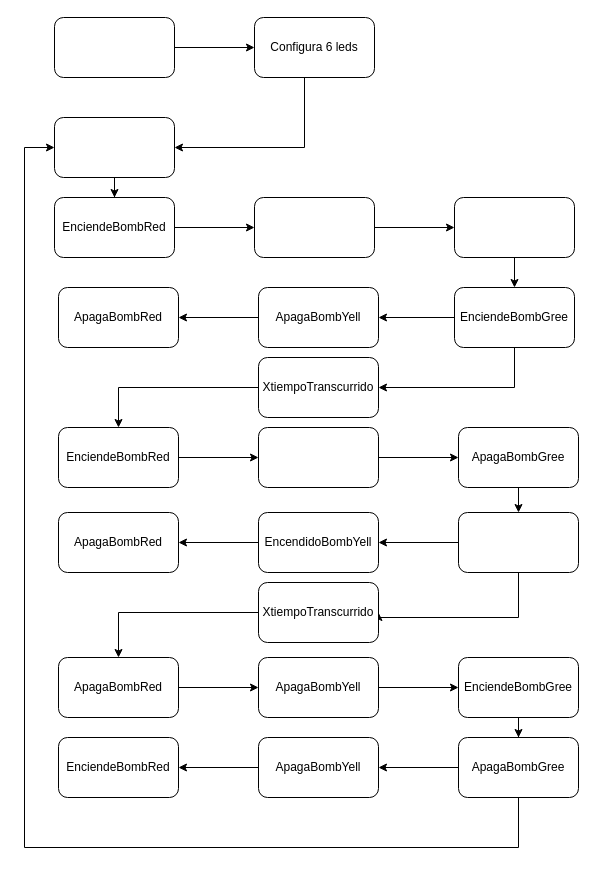
This 596x873 diagram has some shape labels left out. The shapes that lost their labels are listed below. From the top down, each one's box as (x1, y1, x2, y2) in pixels, then its label:
(54, 16, 174, 78): Setup
(54, 116, 174, 178): Loop
(254, 196, 374, 258): ApagaBombYel
(454, 196, 574, 258): ApagaBombGre
(258, 426, 378, 488): EnciendeBombYell
(458, 512, 578, 572): EncendidoBombGree
